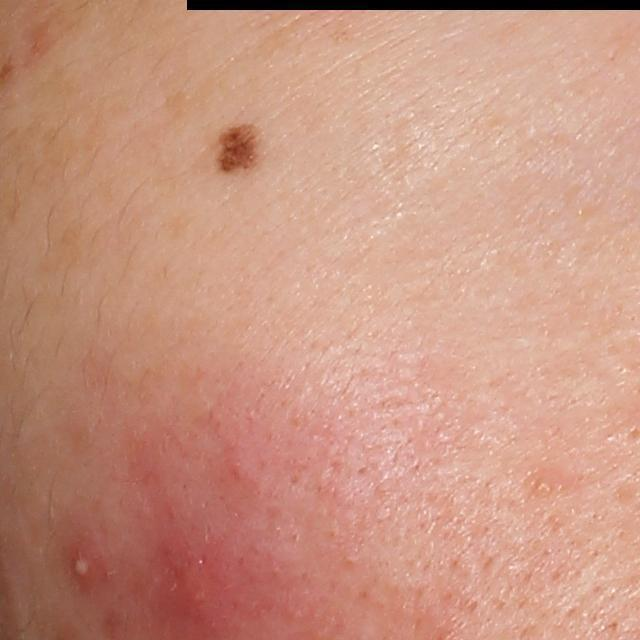comedo: (535, 475, 557, 497)
nevus: (216, 122, 265, 175)
pustule: (63, 532, 116, 590)
